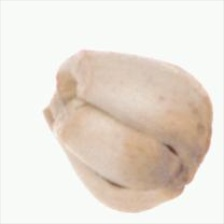L3: (40, 50, 82, 128)
L4: (41, 51, 213, 214)
